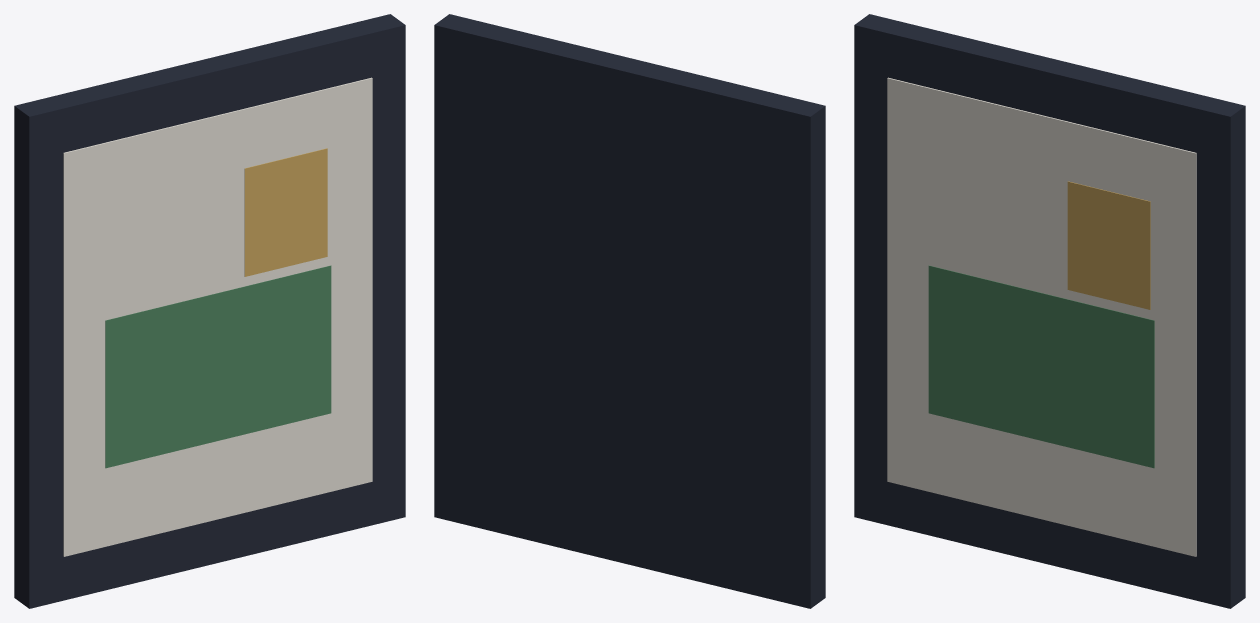
File: framed-print.glb
3 renders of one model, left to right at view 1: azimuth 30°, elevation 25°; view 2: azimuth 150°, elevation 25°; view 3: azimuth 330°, elevation 25°, orthographic.
Parts seen in each view (by area): view 1: framed-print; view 2: framed-print; view 3: framed-print.
Boxes of the visible parts, x1,y1,x2,y2 form: framed-print: (14,14,405,608); framed-print: (434,14,825,608); framed-print: (854,14,1245,608).
Bounding box in the file's own units: 40 × 50 × 3.
